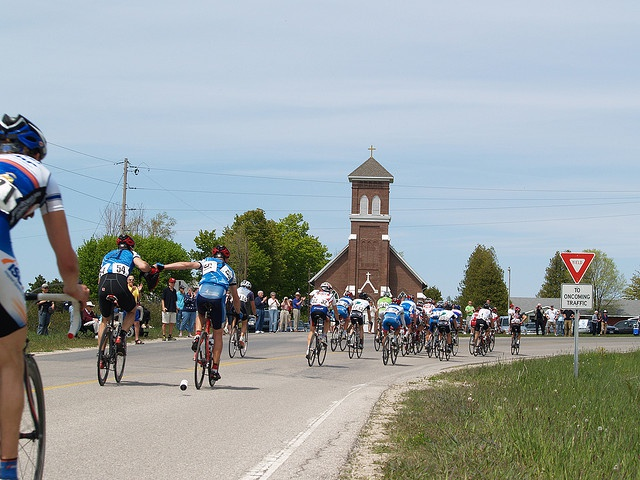non-vehicle: (16, 292, 82, 480), (96, 293, 127, 387), (194, 311, 216, 389), (307, 314, 338, 366), (346, 317, 371, 358), (471, 324, 495, 356), (229, 320, 249, 356), (439, 326, 458, 361), (382, 329, 399, 365), (330, 321, 349, 352), (402, 326, 422, 355), (510, 324, 521, 356), (374, 316, 384, 350)
